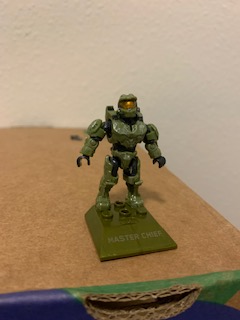chief: (77, 94, 167, 211)
spartan: (75, 92, 165, 209)
